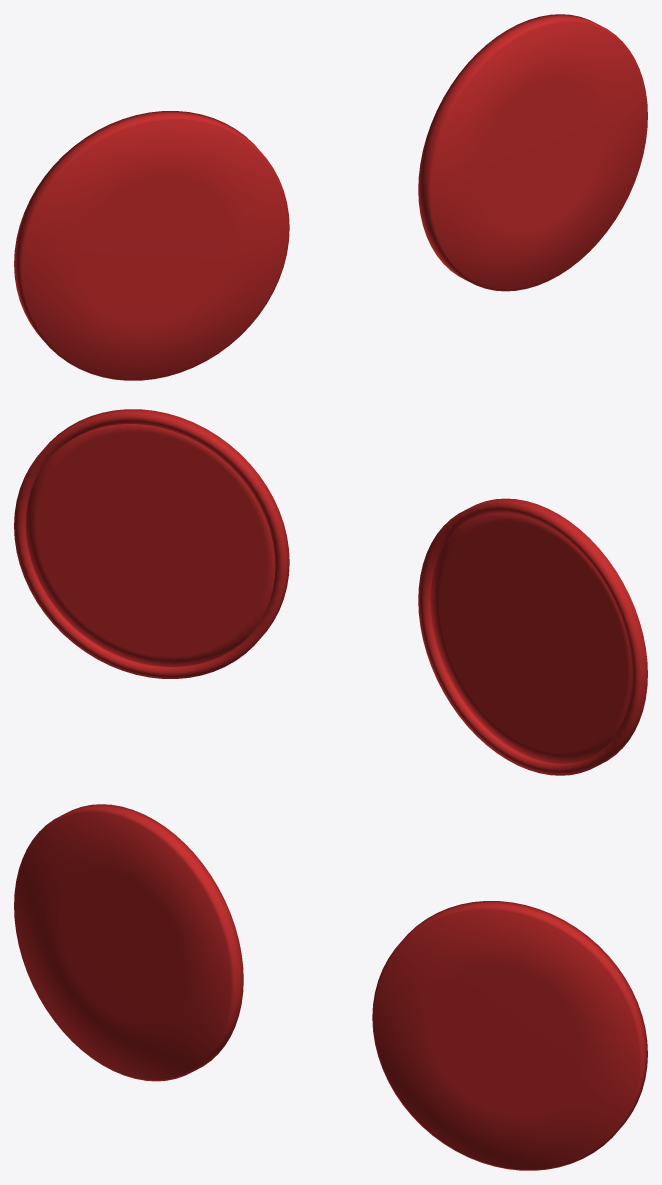
The model's file is Glasses_Glass.glb.
3 views of the same model, one above another, from view 1: azimuth 30°, elevation 25°; view 2: azimuth 150°, elevation 25°; view 3: azimuth 330°, elevation 25° (orthographic).
Visible parts, largest first — view 1: Glass; view 2: Glass; view 3: Glass.
Part boxes in pixels (x1,y1,x2,y2): Glass: (14,14,647,380); Glass: (14,409,647,775); Glass: (14,804,647,1170).
Bounding box in the file's own units: 0.0939 × 0.0373 × 0.00851.
